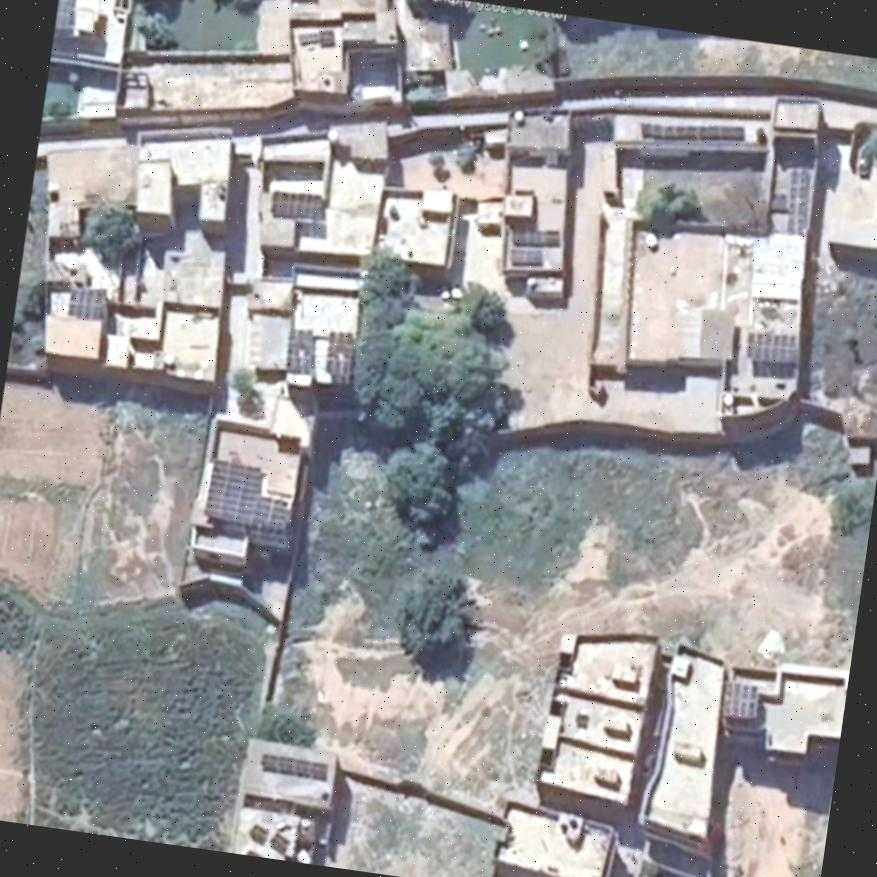Solarpanel: (204, 458, 294, 531), (260, 751, 325, 779), (745, 328, 797, 363), (272, 191, 320, 216), (722, 682, 757, 716), (67, 288, 102, 317), (55, 0, 70, 28)
